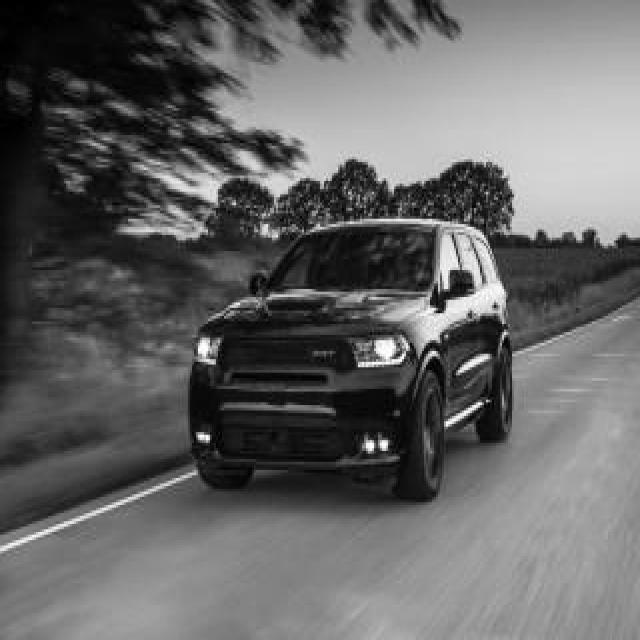Car: (190, 219, 511, 499)
